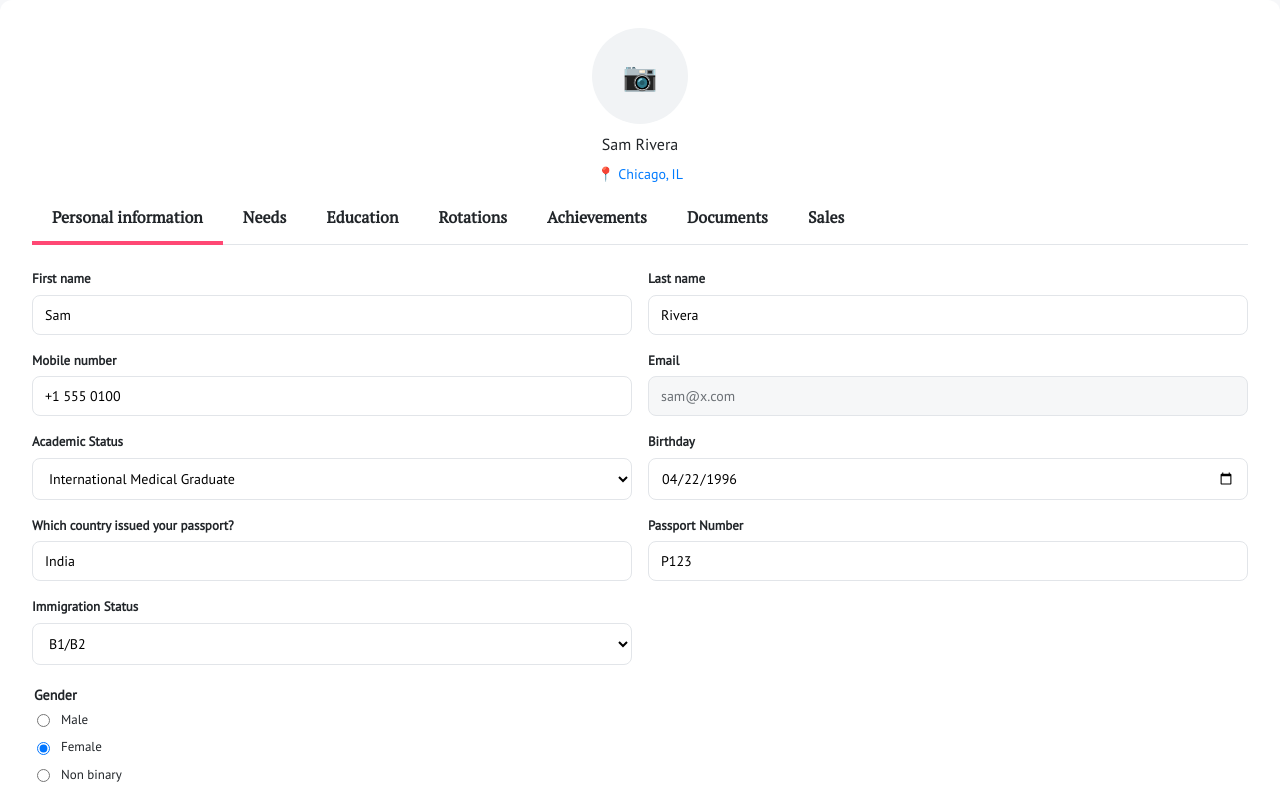
StudentProfilePage › shows a coming-soon placeholder for a not-yet-built tab
The width and height of the screenshot is (1280, 800).
Click the tab "Rotations".
click(473, 217)  # box [438,206,507,228]
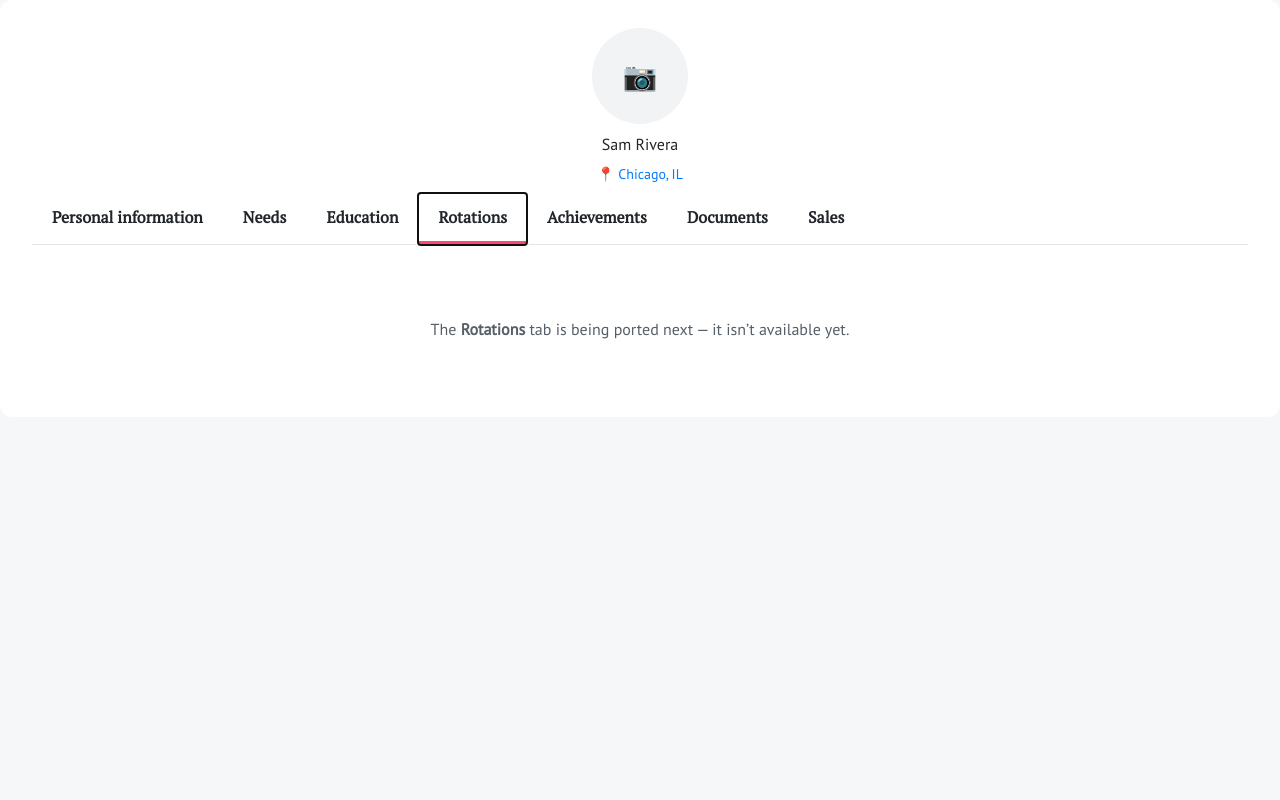
Expected: the text "Rotations" is shown, [461,319,525,339]
